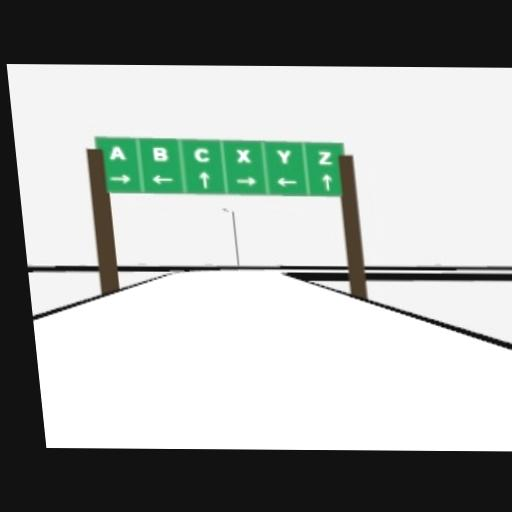A: (108, 144, 125, 159)
B: (152, 147, 168, 162)
C: (193, 147, 211, 162)
Left: (149, 174, 173, 184), (276, 177, 298, 187)
Right: (109, 174, 131, 184), (235, 177, 256, 185)
Straight: (197, 171, 210, 187), (321, 174, 332, 190)
X: (236, 149, 250, 162)
Y: (276, 148, 290, 164)
Z: (317, 149, 333, 164)
